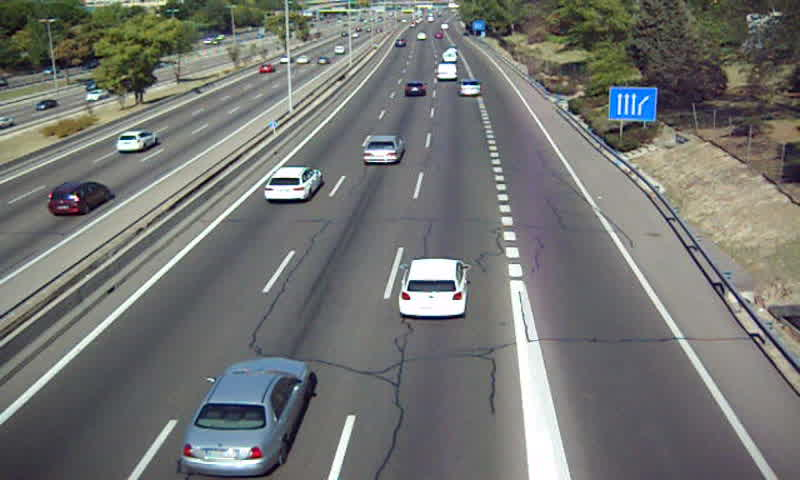car: (179, 357, 313, 476), (399, 258, 468, 318), (262, 168, 321, 202), (363, 134, 404, 165), (458, 79, 484, 98), (403, 82, 428, 98)
van: (436, 62, 458, 81), (444, 50, 458, 62)
